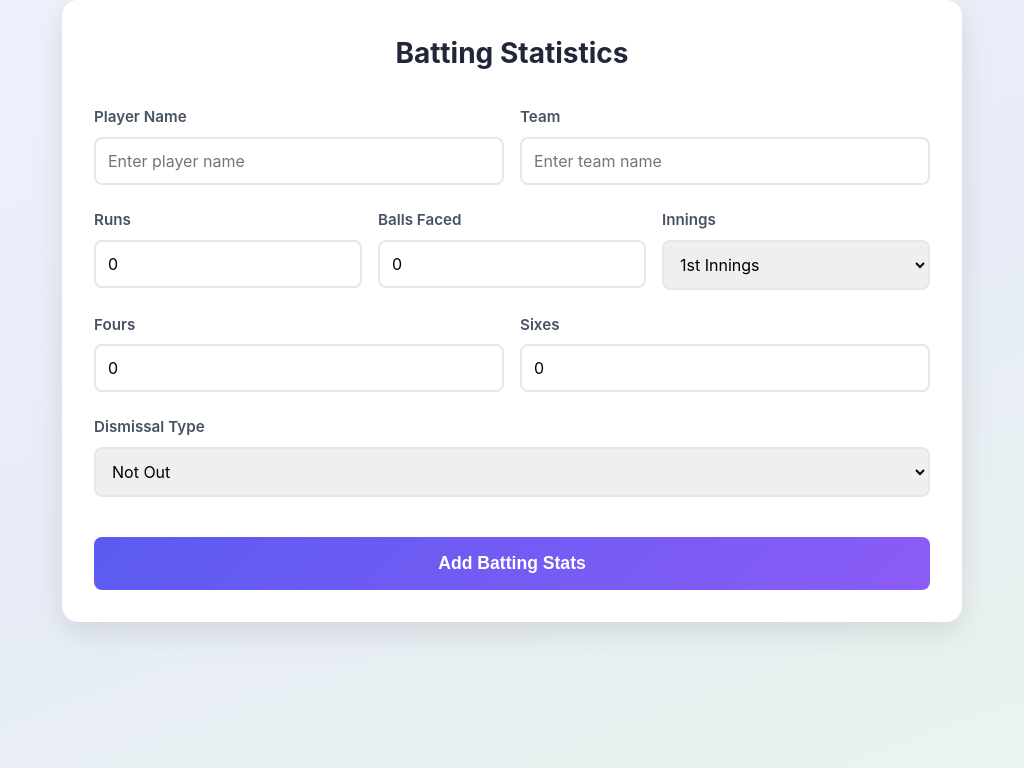
it: BattingStats calculations › shows strike rate when runs and balls are entered
Replace the text in the number field labelled "Runs" with "50" at coordinates (228, 264), box [94,240,362,288]
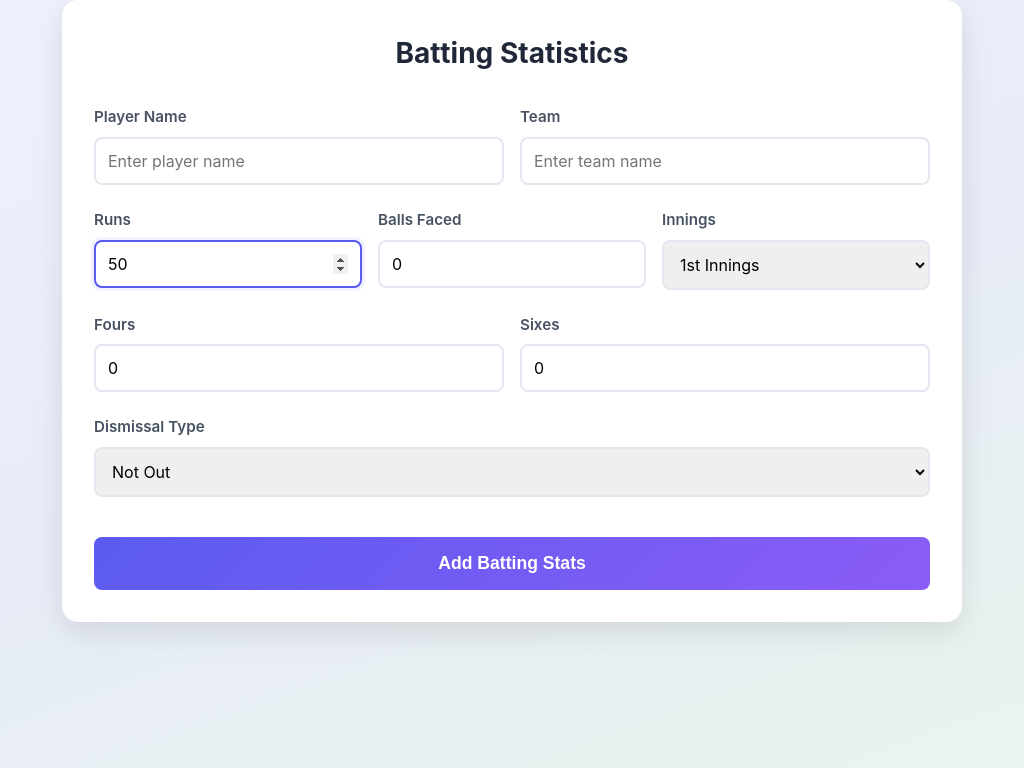
Replace the text in the number field labelled "Balls Faced" with "25" at coordinates (512, 264), box [378,240,646,288]
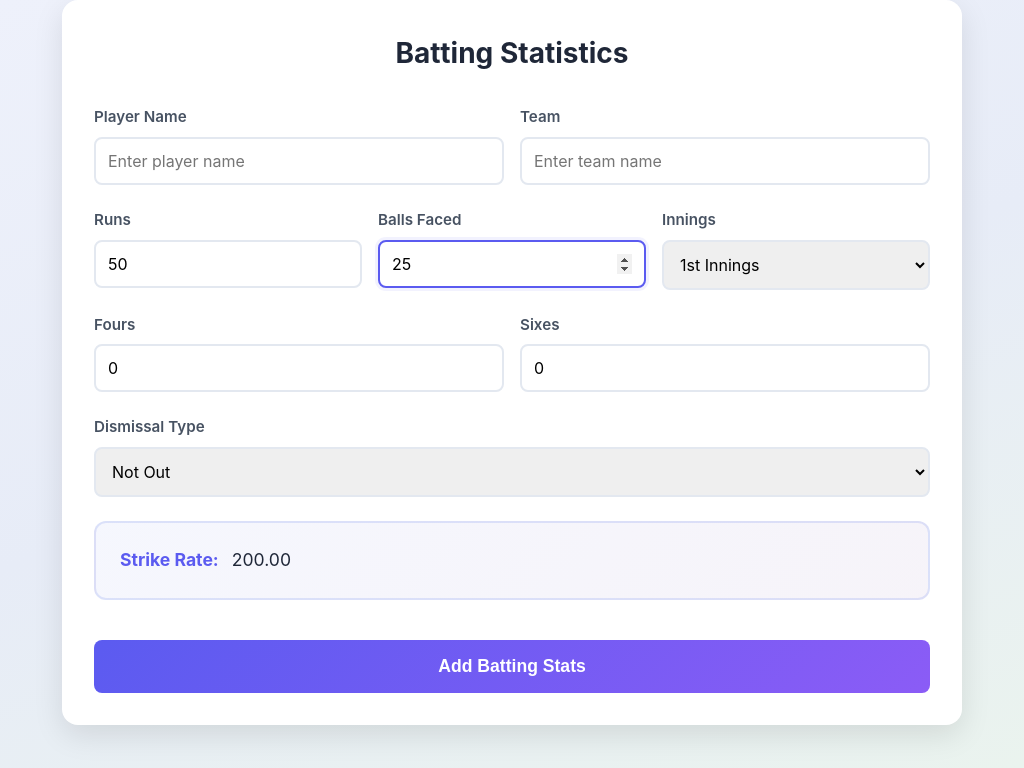
Expected: the text "Strike Rate:" is shown, [120,549,219,570]
Expected: the text "Strike Rate: 200.00" is shown, [120,547,291,574]
